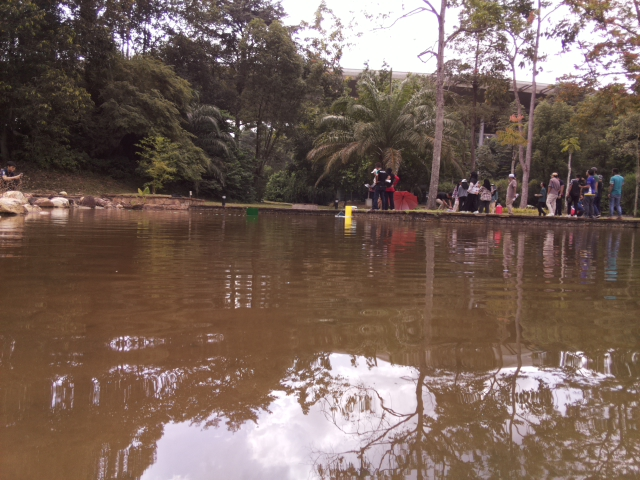obstacle: (245, 206, 257, 217)
